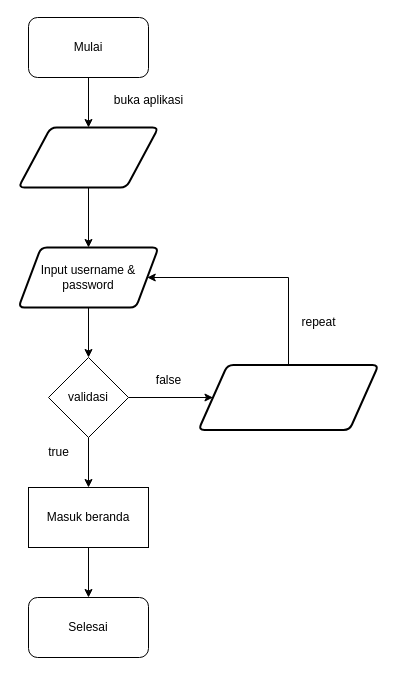
The diagram is 396 pixels wide and 675 high, and some of its shapes have lost their labels. The centre of each missing label's shape, as x and y in pixels:
"input ulang username & password" belongs at [288,397].
"Klik aplikasi IG" belongs at [88,157].
